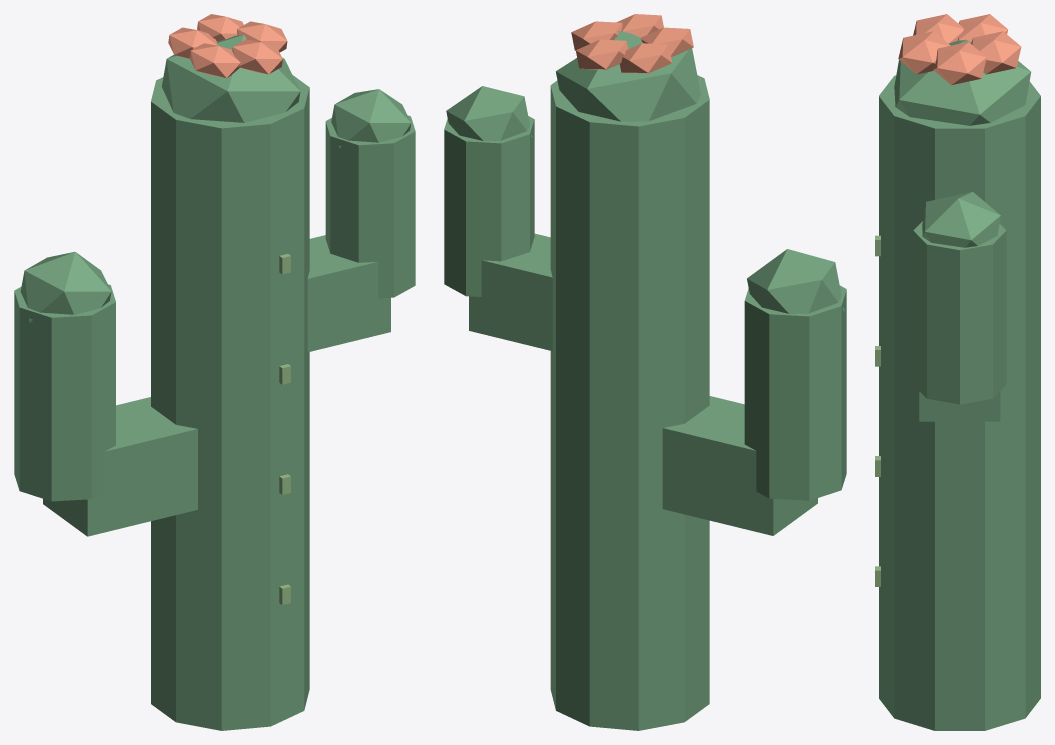
Rendered from 04_Cactus.glb.
The picture shows the model from 3 angles, left to right: view 1: azimuth 30°, elevation 25°; view 2: azimuth 150°, elevation 25°; view 3: azimuth 270°, elevation 25°; orthographic projection.
Parts seen in each view (by area): view 1: Main stem, Left upright, Right upright, Left arm, Right arm, Rounded cap, Left cap, Right cap, Flower petal.004, Flower petal.003, Flower petal.002, Flower petal (+1 smaller); view 2: Main stem, Left upright, Right upright, Left arm, Rounded cap, Right arm, Left cap, Right cap, Flower petal.002, Flower petal.001, Flower petal.003, Flower petal (+1 smaller); view 3: Main stem, Right upright, Rounded cap, Right cap, Right arm, Flower petal, Flower petal.001, Flower petal.004, Flower petal.003, Flower petal.002.
Part boxes in pixels (x1,y1,x2,y2): Main stem: (151, 75, 309, 730); Left upright: (14, 284, 115, 501); Right upright: (325, 115, 415, 298); Left arm: (43, 397, 197, 536); Right arm: (307, 235, 390, 352); Rounded cap: (161, 35, 300, 122); Left cap: (20, 252, 111, 322); Right cap: (331, 89, 411, 148); Flower petal.004: (232, 39, 282, 74); Flower petal.003: (189, 43, 240, 78); Flower petal.002: (168, 27, 217, 58); Flower petal: (237, 21, 287, 52); Main stem: (550, 75, 709, 730); Left upright: (744, 285, 846, 500); Right upright: (444, 116, 534, 296); Left arm: (662, 396, 817, 535); Rounded cap: (556, 31, 700, 121); Right arm: (469, 233, 552, 351); Left cap: (747, 249, 844, 313); Right cap: (446, 86, 532, 140); Flower petal.002: (619, 43, 672, 73); Flower petal.001: (575, 39, 628, 69); Flower petal.003: (640, 27, 693, 56); Flower petal: (571, 21, 622, 50); Main stem: (879, 75, 1040, 730); Right upright: (913, 221, 1006, 404); Rounded cap: (894, 39, 1031, 125); Right cap: (922, 192, 1000, 247); Right arm: (919, 391, 1000, 421); Flower petal: (933, 42, 986, 85); Flower petal.001: (971, 31, 1021, 74); Flower petal.004: (898, 31, 950, 74); Flower petal.003: (913, 14, 963, 43); Flower petal.002: (958, 14, 1008, 42).
Bounding box in the file's own units: 1.12 × 1.81 × 0.4095.
